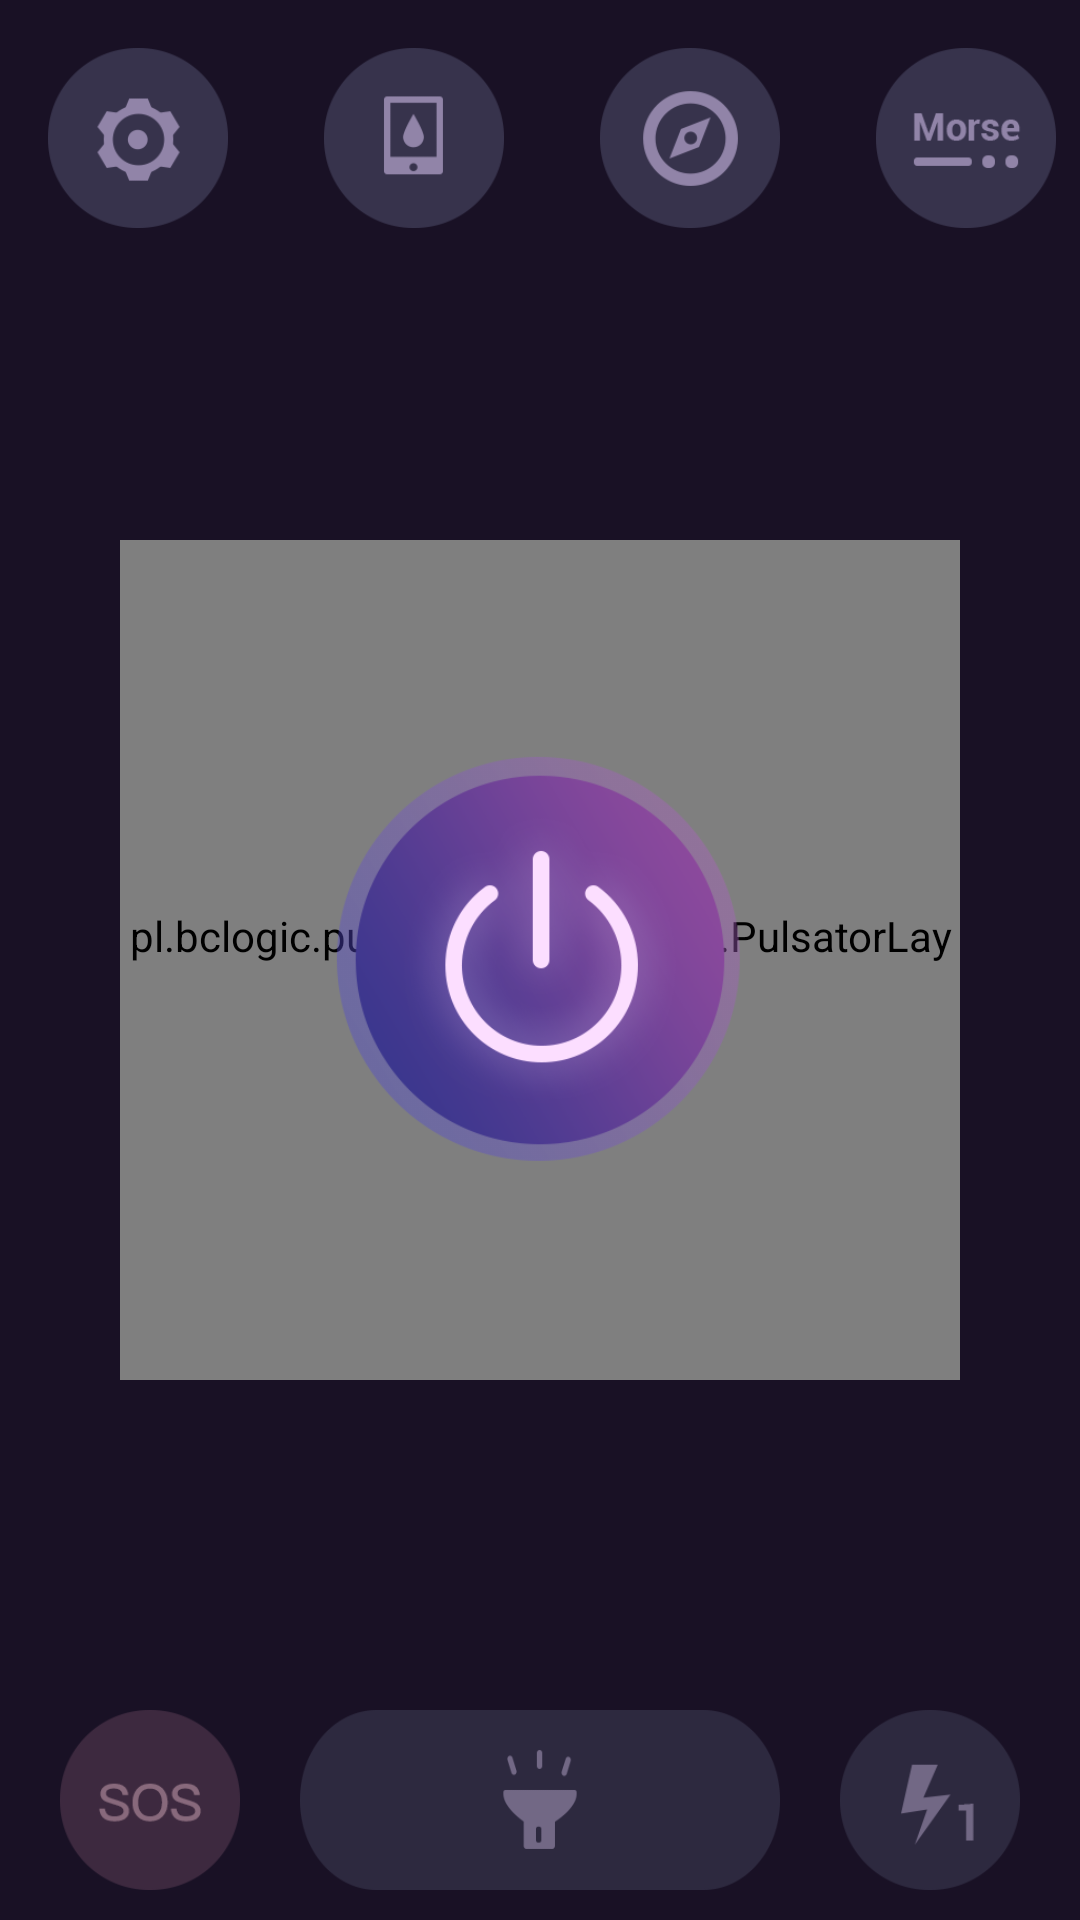

Where icons sit on this 1080 × 1920 app screen, as (x1, y1, x2, y2):
compass: (600, 48, 780, 228)
flash speed off: (840, 1710, 1020, 1890)
screen: (324, 48, 504, 228)
setting: (48, 48, 228, 228)
